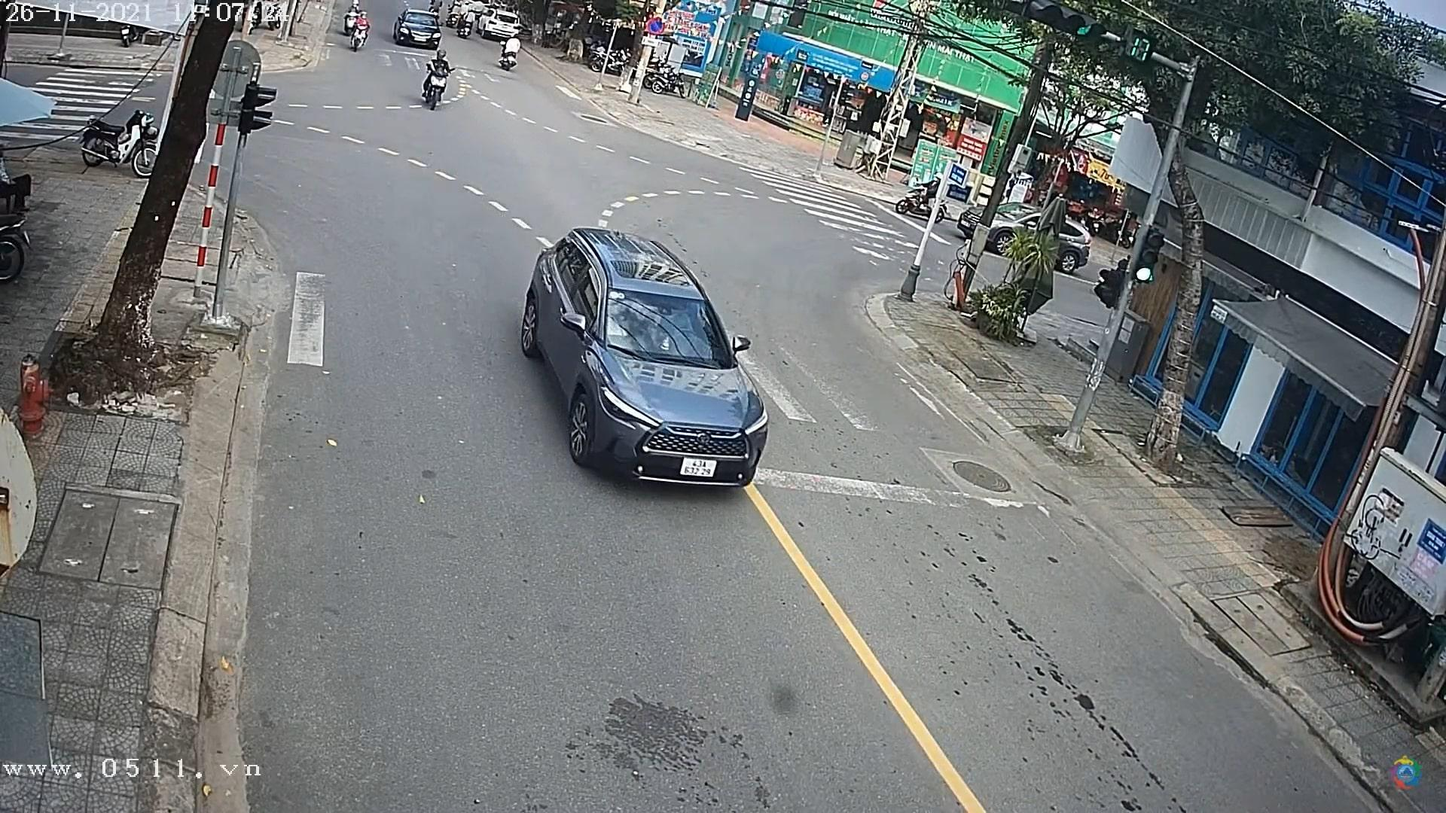car: (523, 228, 771, 489), (397, 11, 442, 47)
motorbike: (422, 59, 458, 107)
